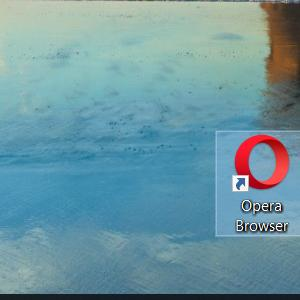opera: (232, 134, 288, 192)
